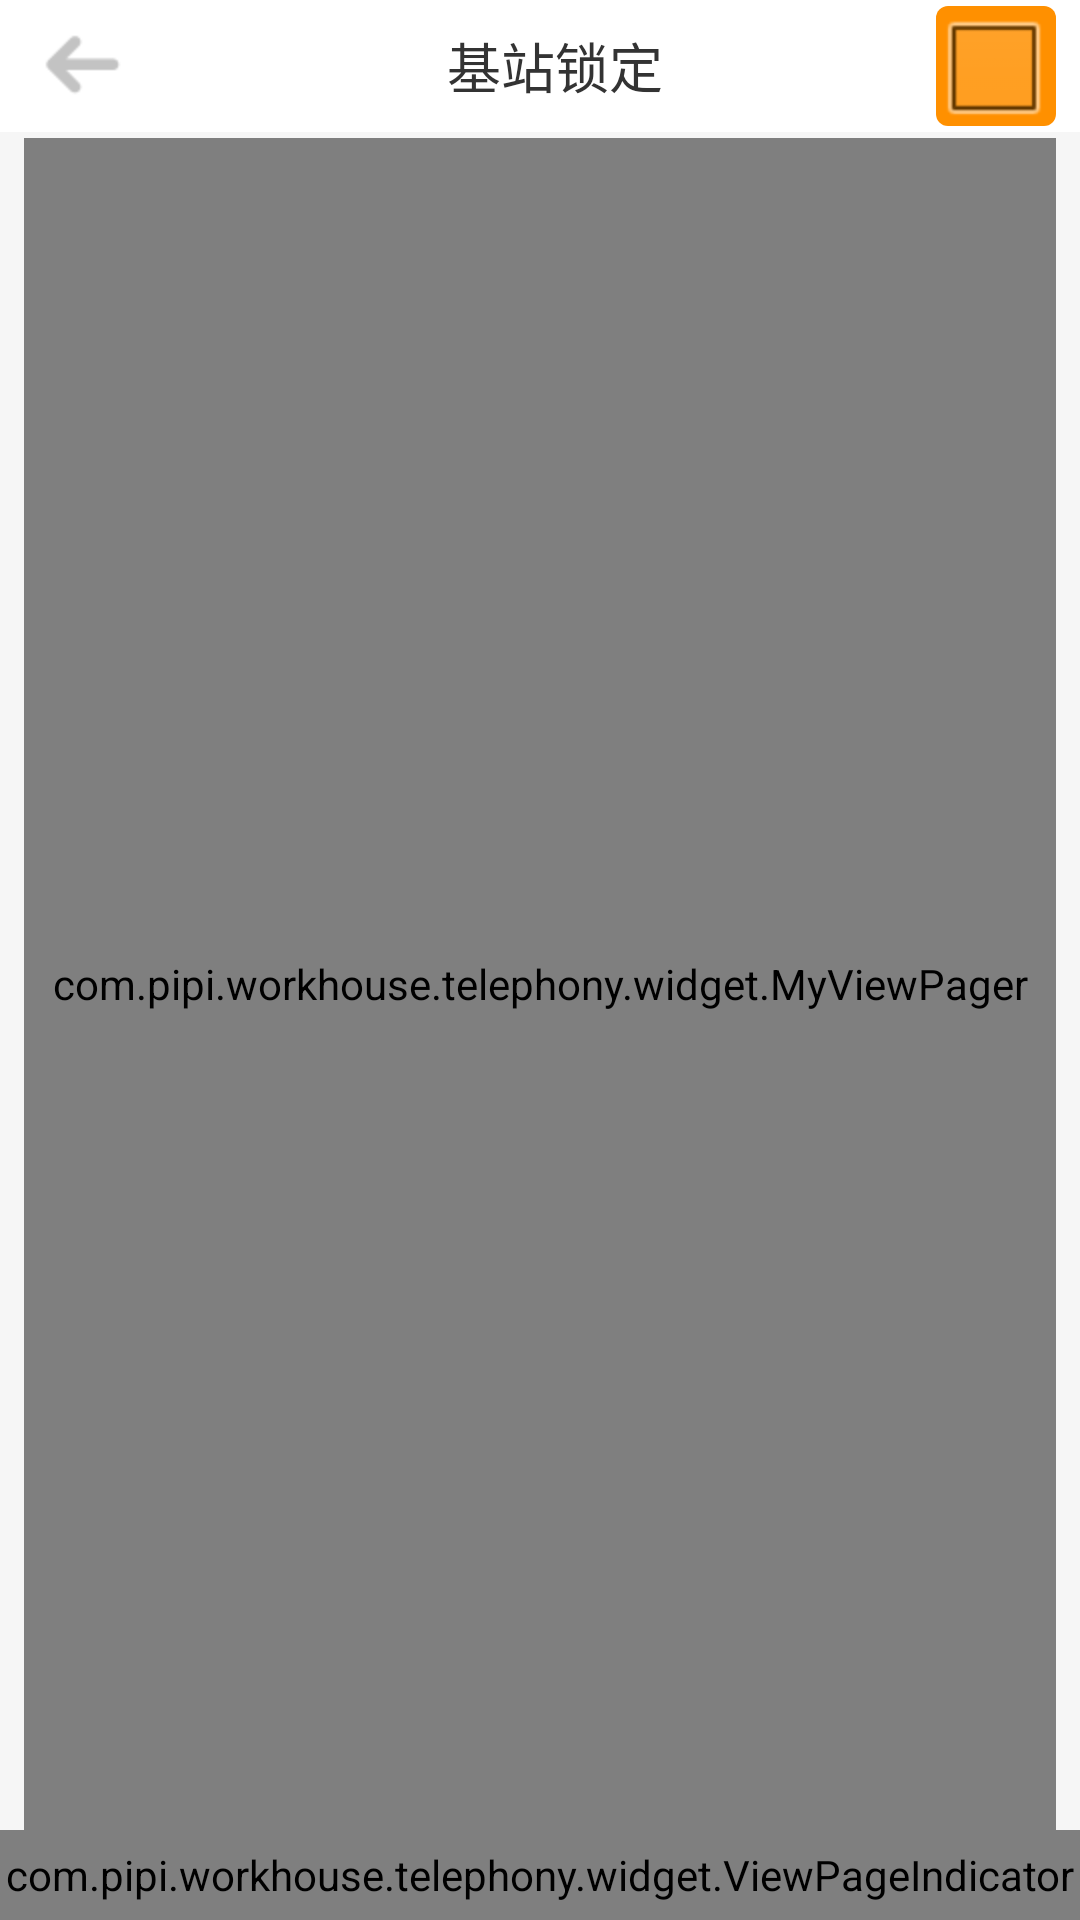

Locate icon controls on the screen. Image size 1080w x 1920h, boxes as detection(x1, y1, x2, y2).
back: detection(46, 36, 119, 93)
